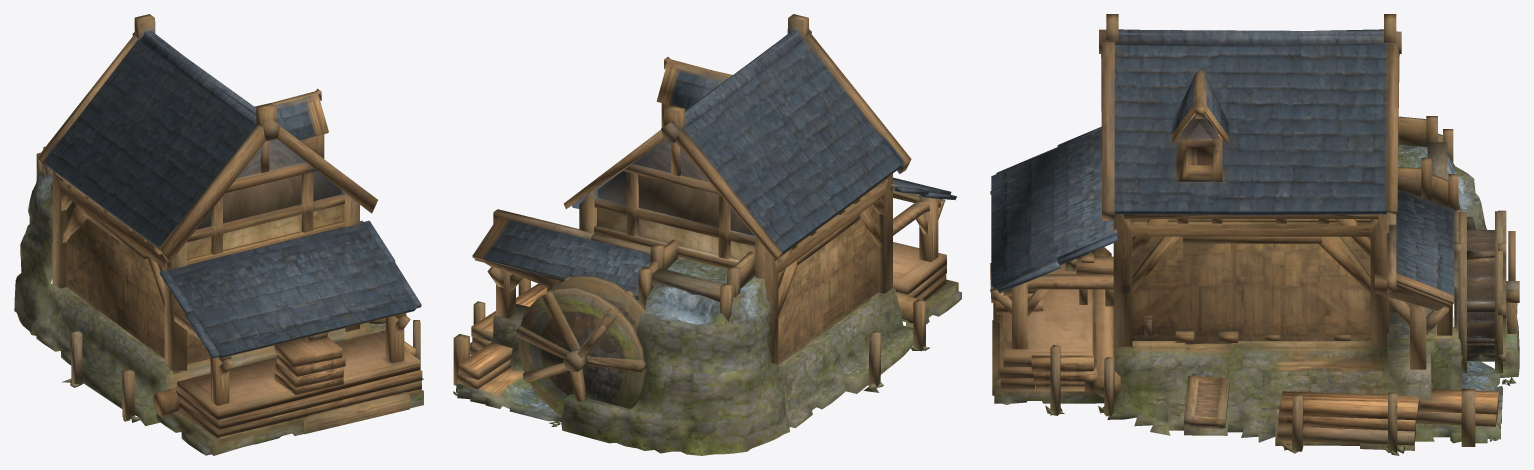
The model's file is camelot-sawmill.glb.
3 views of the same model, side by side, from view 1: azimuth 30°, elevation 25°; view 2: azimuth 150°, elevation 25°; view 3: azimuth 270°, elevation 25° (orthographic). The views are drawn at different scales.
Parts seen in each view (by area): view 1: tripo_node_60036e4e-cd84-440c-9179-634f9aa98a47; view 2: tripo_node_60036e4e-cd84-440c-9179-634f9aa98a47; view 3: tripo_node_60036e4e-cd84-440c-9179-634f9aa98a47.
Boxes of the visible parts, x1,y1,x2,y2 form: tripo_node_60036e4e-cd84-440c-9179-634f9aa98a47: [14, 14, 423, 455]; tripo_node_60036e4e-cd84-440c-9179-634f9aa98a47: [453, 14, 961, 455]; tripo_node_60036e4e-cd84-440c-9179-634f9aa98a47: [990, 14, 1519, 455].
Size of the model in its own units: 0.8457 by 0.6895 by 0.998.
1 material, 1 textured.
